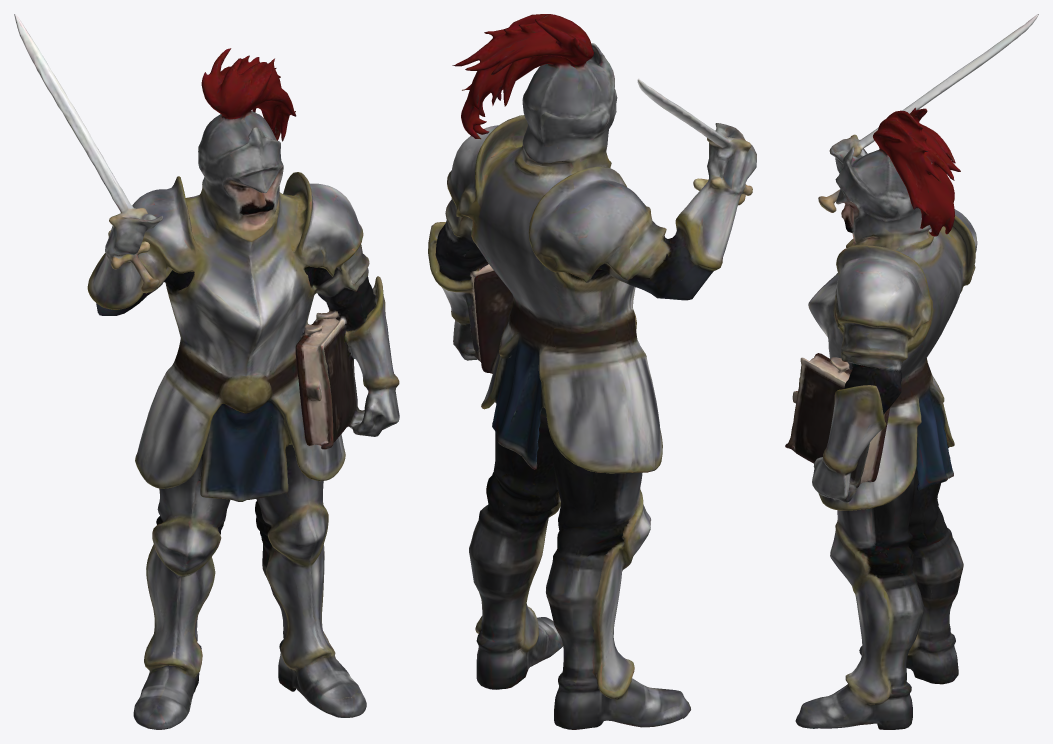
Rendered from hero_reginald.glb.
3 renders of one model, left to right at view 1: azimuth 30°, elevation 25°; view 2: azimuth 150°, elevation 25°; view 3: azimuth 270°, elevation 25°, orthographic. The views are drawn at different scales.
Bounding box in the file's own units: 0.4133 × 0.9248 × 0.3455.
Materials: 1 (1 with a texture image).
